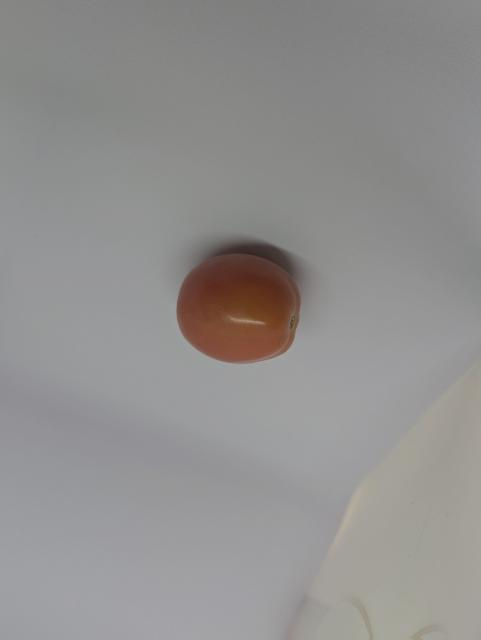red: (165, 249, 310, 375)
